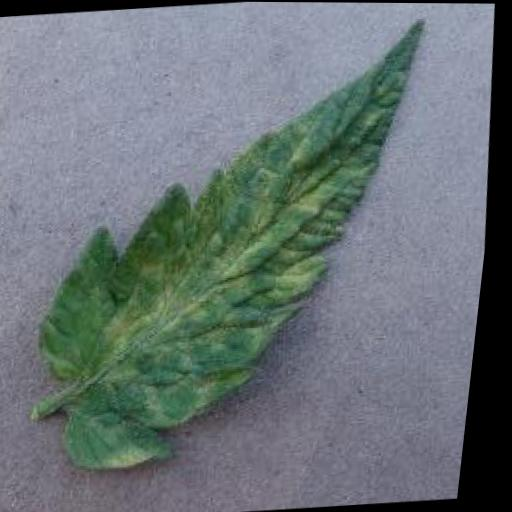Leaf Mold: (12, 15, 460, 479)
